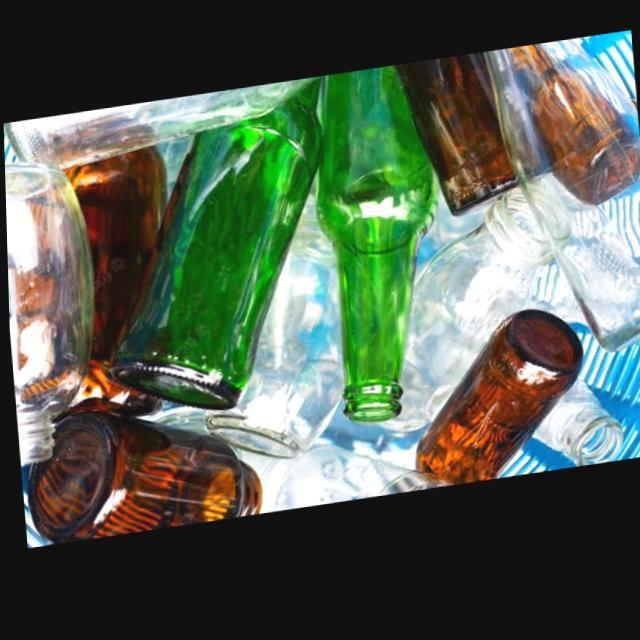glass_bottle: (110, 85, 323, 413), (482, 50, 640, 363), (311, 73, 439, 430), (373, 195, 552, 439), (201, 197, 342, 463), (24, 413, 260, 546), (58, 148, 167, 419), (413, 320, 580, 494), (3, 82, 324, 170), (4, 162, 93, 466), (393, 62, 517, 225), (227, 450, 445, 519), (530, 387, 619, 478)
